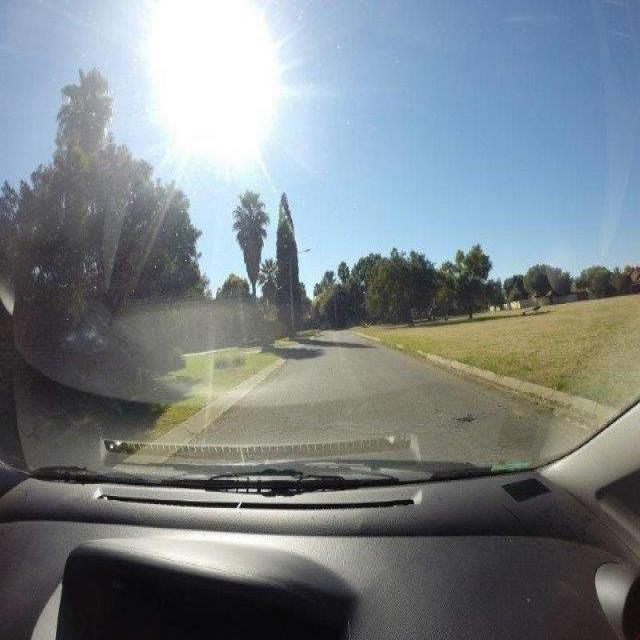lubang: (446, 407, 484, 429)
